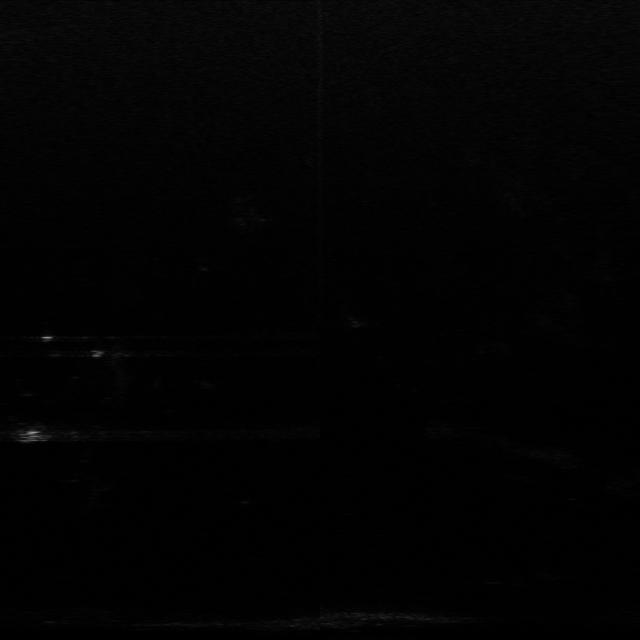rov: (16, 424, 44, 448)
